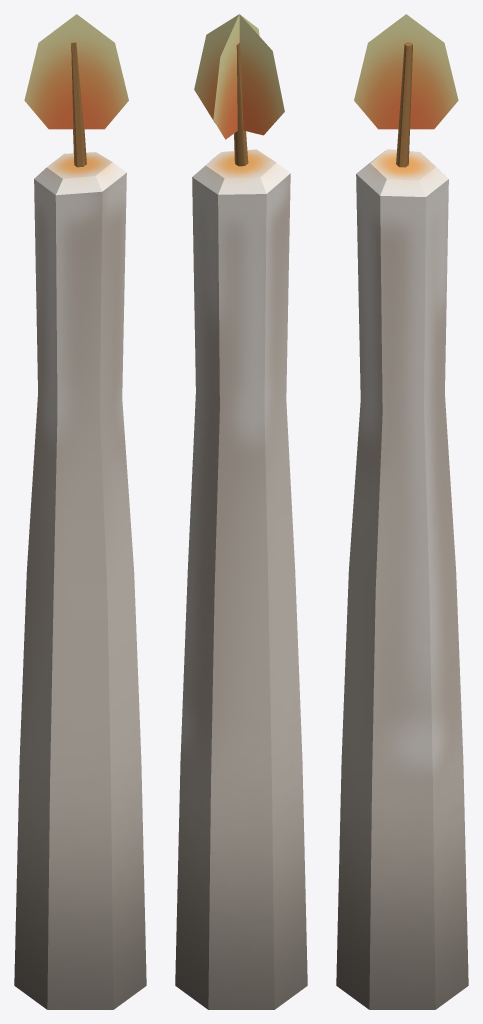
Rendered from SM_candle02.fbx.
3 renders of one model, left to right at view 1: azimuth 90°, elevation 25°; view 2: azimuth 150°, elevation 25°; view 3: azimuth 270°, elevation 25°, orthographic.
Parts seen in each view (by area): view 1: SM_candle02; view 2: SM_candle02; view 3: SM_candle02.
Part boxes in pixels (left/top/right/bottom): SM_candle02: left=14, top=14, right=146, bottom=1009; SM_candle02: left=175, top=14, right=307, bottom=1009; SM_candle02: left=336, top=14, right=468, bottom=1009.
Bounding box in the file's own units: 0.1615 × 1.51 × 0.1864.
